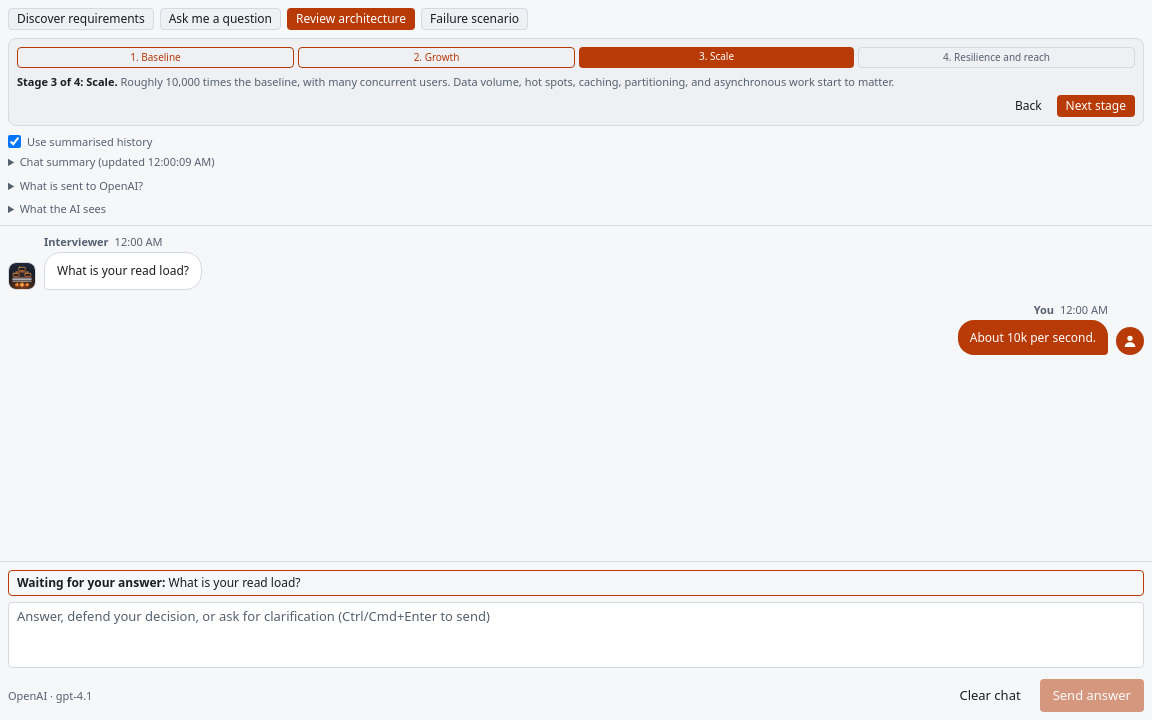
it: Clear chat button › asks first, then empties the chat and leaves the design alone
The width and height of the screenshot is (1152, 720).
Check: the text "About 10k per second." is shown, box [970,328,1096,347]
Click the button "Clear chat": (990, 696) [946,679,1034,712]
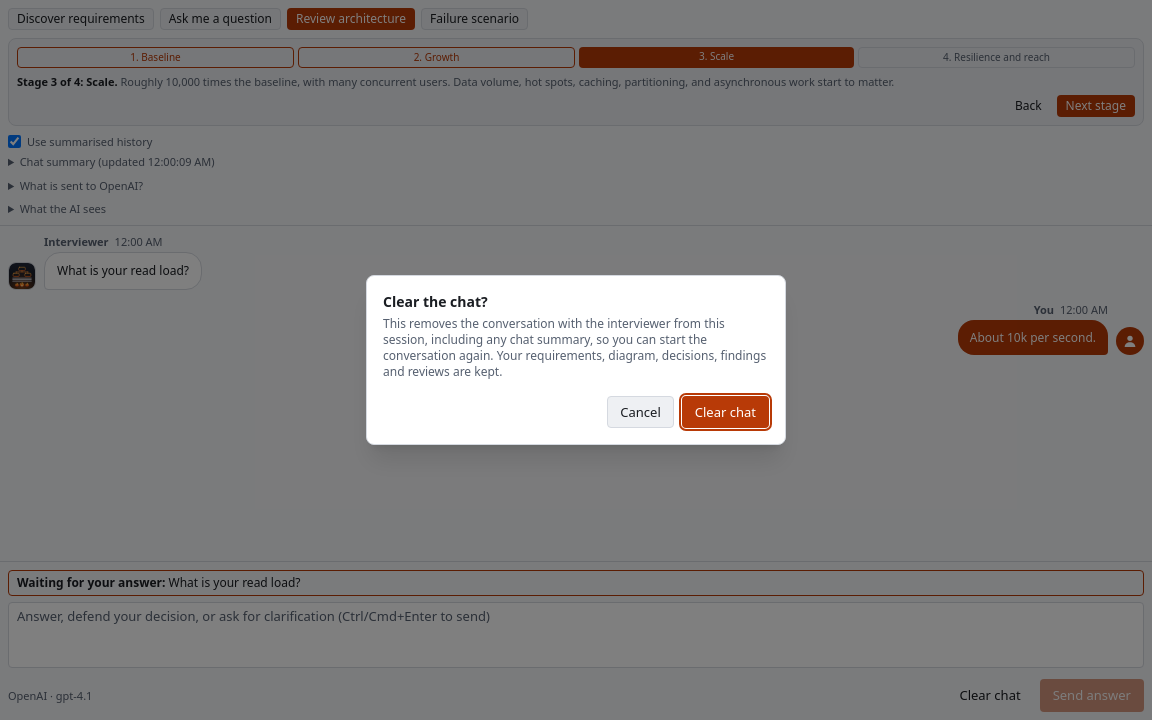
Click the button "Cancel": (641, 412) [607,396,674,428]
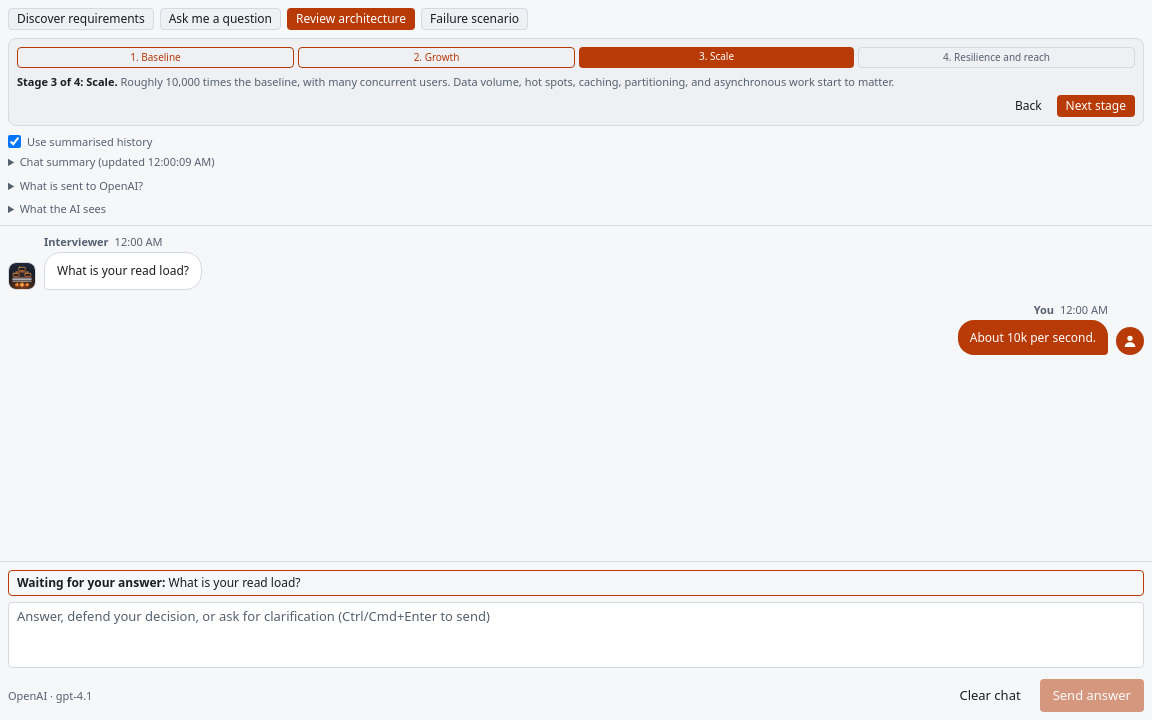
Check: the dialog is gone
Click the button "Clear chat": (990, 696) [946,679,1034,712]
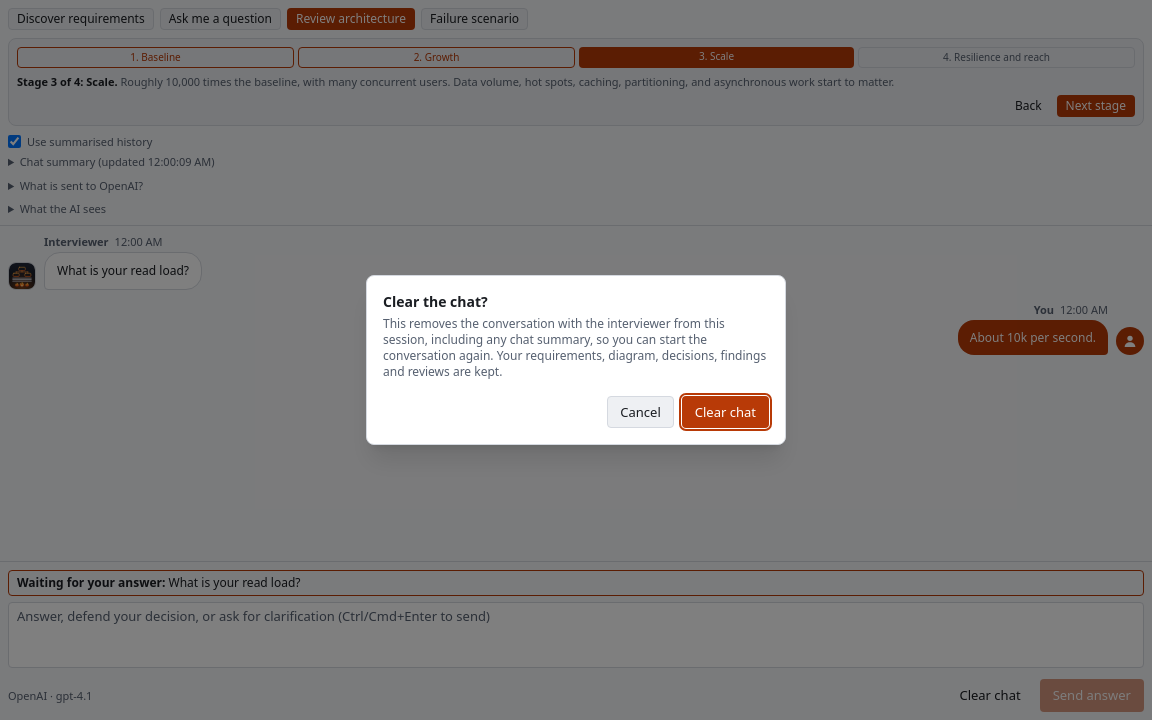
Click the button "Clear chat": (725, 412) [682,396,769,428]
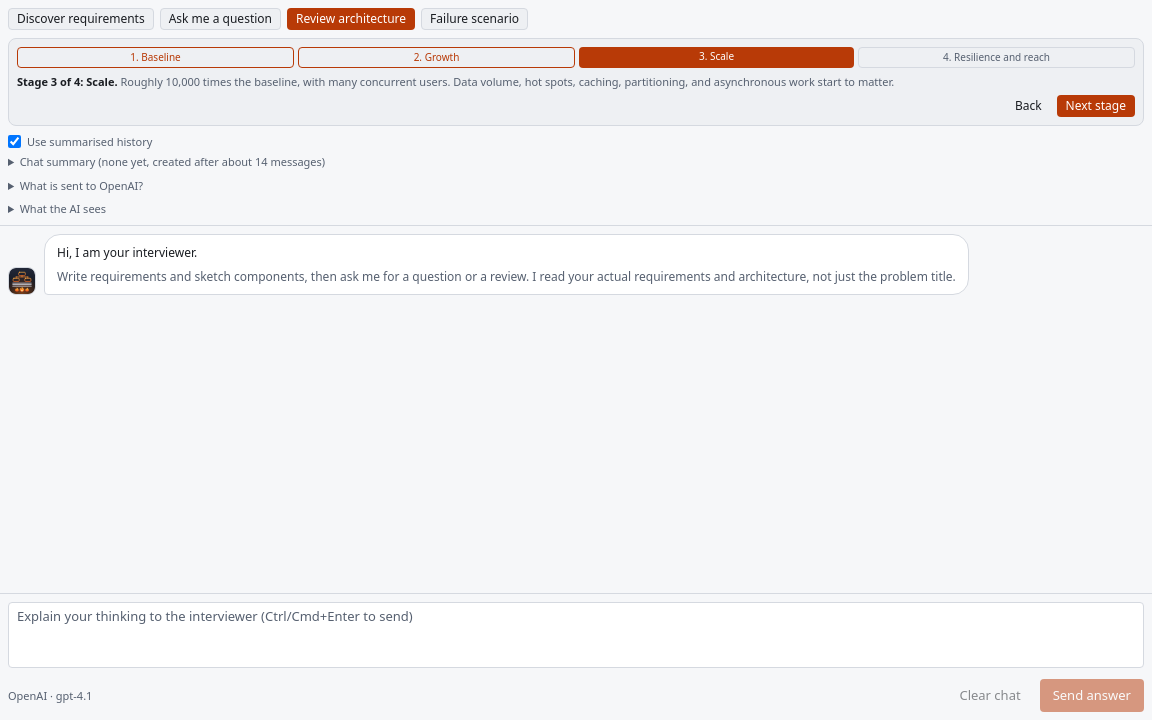
Check: the text "About 10k per second." is gone
Check: the text "Hi, I am your interviewer." is shown, box [57,244,197,261]
Check: the button "Clear chat" is disabled, box [946,679,1034,712]
